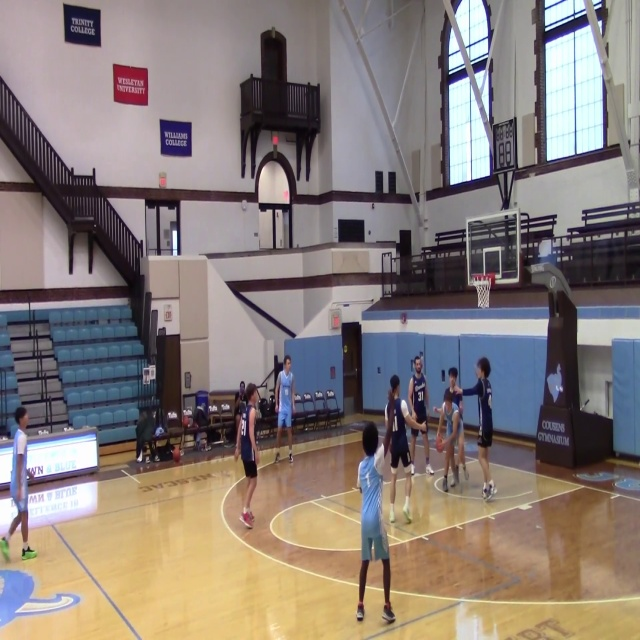Basketball: (435, 438, 445, 452), (172, 447, 181, 462)
